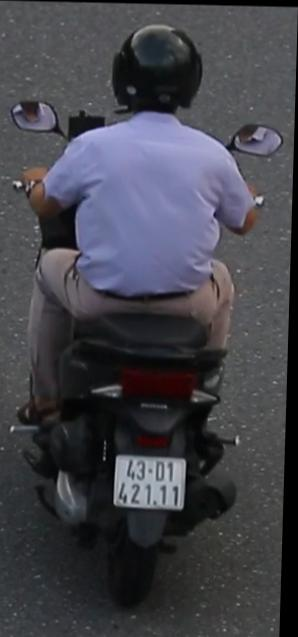LP: (113, 448, 193, 514)
helmet: (108, 18, 214, 139)
